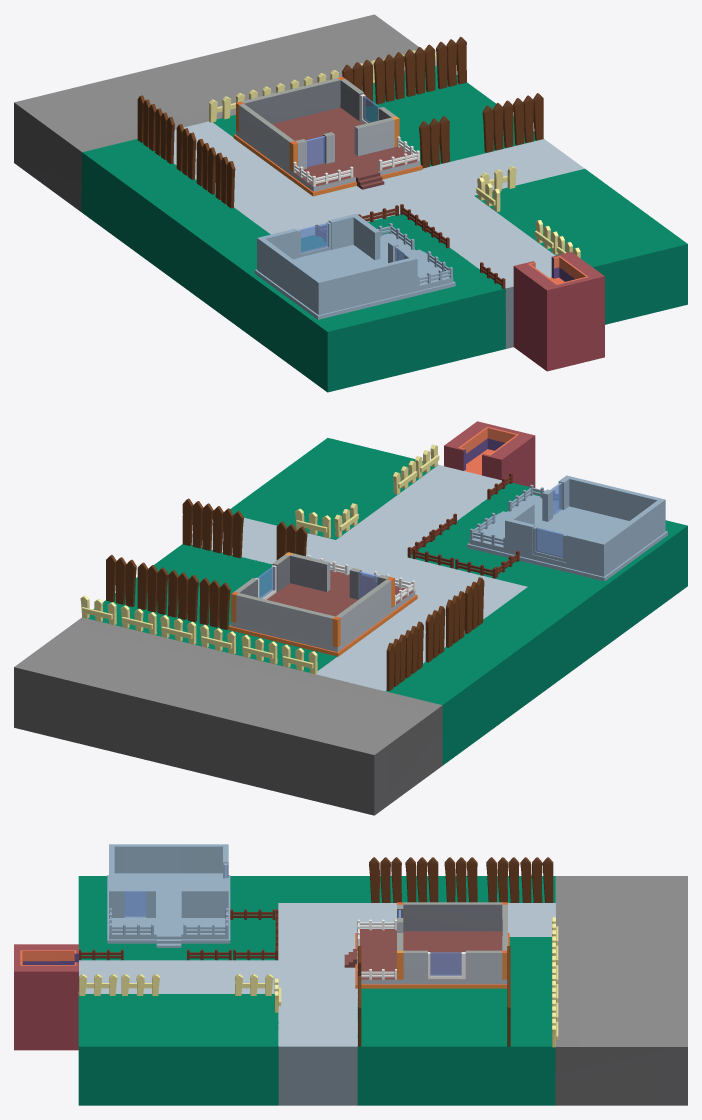
File: outdoor full.fbx
3 views of the same model, one above another, from view 1: azimuth 30°, elevation 25°; view 2: azimuth 150°, elevation 25°; view 3: azimuth 270°, elevation 25° (orthographic). The views are drawn at different scales.
Visible parts, largest first — view 1: floor1, floor, floor7, floor3, house1, house, floor4, spawn, floor2, floor6, floor5, fence2 (+11 smaller); view 2: floor1, floor7, house, house1, floor, floor3, floor4, floor2, floor6, spawn, floor5, fence14 (+18 smaller); view 3: floor1, floor6, floor3, floor4, house1, house, floor, spawn, floor2, floor7, floor5, fence24 (+7 smaller).
Boxes of the visible parts, bbox=[...] form: floor1: bbox=[14, 14, 436, 211]; floor: bbox=[225, 214, 505, 392]; floor7: bbox=[81, 139, 270, 316]; floor3: bbox=[474, 169, 687, 324]; house1: bbox=[233, 77, 422, 196]; house: bbox=[254, 214, 455, 319]; floor4: bbox=[241, 139, 584, 237]; spawn: bbox=[513, 252, 604, 371]; floor2: bbox=[411, 196, 555, 348]; floor6: bbox=[213, 66, 543, 168]; floor5: bbox=[173, 121, 311, 212]; fence2: bbox=[482, 100, 513, 152]; floor1: bbox=[14, 617, 442, 815]; floor7: bbox=[385, 587, 585, 765]; house: bbox=[467, 475, 667, 581]; house1: bbox=[228, 552, 417, 656]; floor: bbox=[410, 483, 687, 660]; floor3: bbox=[230, 438, 438, 539]; floor4: bbox=[191, 517, 527, 616]; floor2: bbox=[336, 465, 501, 557]; floor6: bbox=[88, 544, 336, 672]; spawn: bbox=[444, 421, 535, 487]; floor5: bbox=[316, 600, 486, 691]; fence14: bbox=[182, 498, 213, 550]; floor1: bbox=[555, 876, 687, 1105]; floor6: bbox=[357, 937, 555, 1105]; floor3: bbox=[78, 994, 278, 1105]; floor4: bbox=[278, 903, 358, 1105]; house1: bbox=[344, 902, 509, 988]; house: bbox=[107, 844, 230, 947]; floor: bbox=[78, 876, 278, 960]; spawn: bbox=[14, 944, 78, 1050]; floor2: bbox=[78, 960, 278, 993]; floor7: bbox=[278, 876, 555, 902]; floor5: bbox=[358, 903, 555, 936]; fence24: bbox=[520, 857, 553, 902].
Bounding box in the file's own units: 138 × 38.65 × 228.
Materials: 2 (2 with a texture image).
